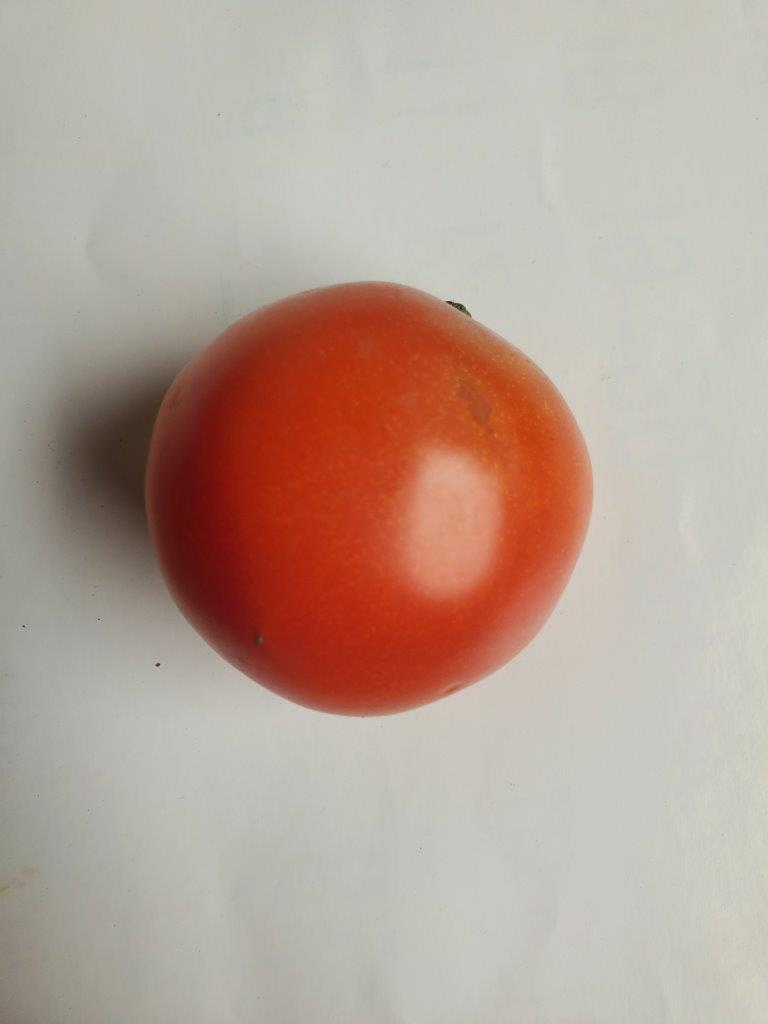tomato: (146, 283, 590, 714)
